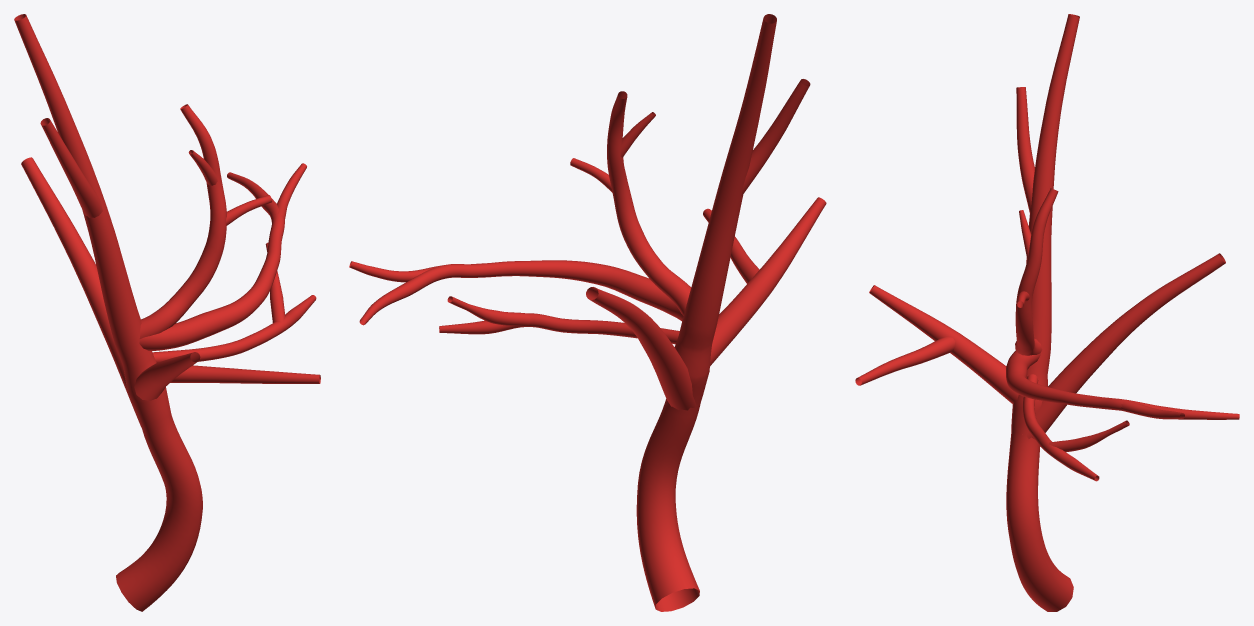
Rendered from circulatorio-apicoposterior-vein-of-left-lung.glb.
3 renders of one model, left to right at view 1: azimuth 30°, elevation 25°; view 2: azimuth 150°, elevation 25°; view 3: azimuth 270°, elevation 25°, orthographic. The views are drawn at different scales.
Visible parts, largest first — view 1: Apicoposterior vein of left lung; view 2: Apicoposterior vein of left lung; view 3: Apicoposterior vein of left lung.
Part boxes in pixels (<box>): Apicoposterior vein of left lung: <box>14,14,320,611</box>; Apicoposterior vein of left lung: <box>349,14,826,611</box>; Apicoposterior vein of left lung: <box>855,14,1239,611</box>.
Size of the model in its own units: 0.0616 by 0.1014 by 0.0642.
